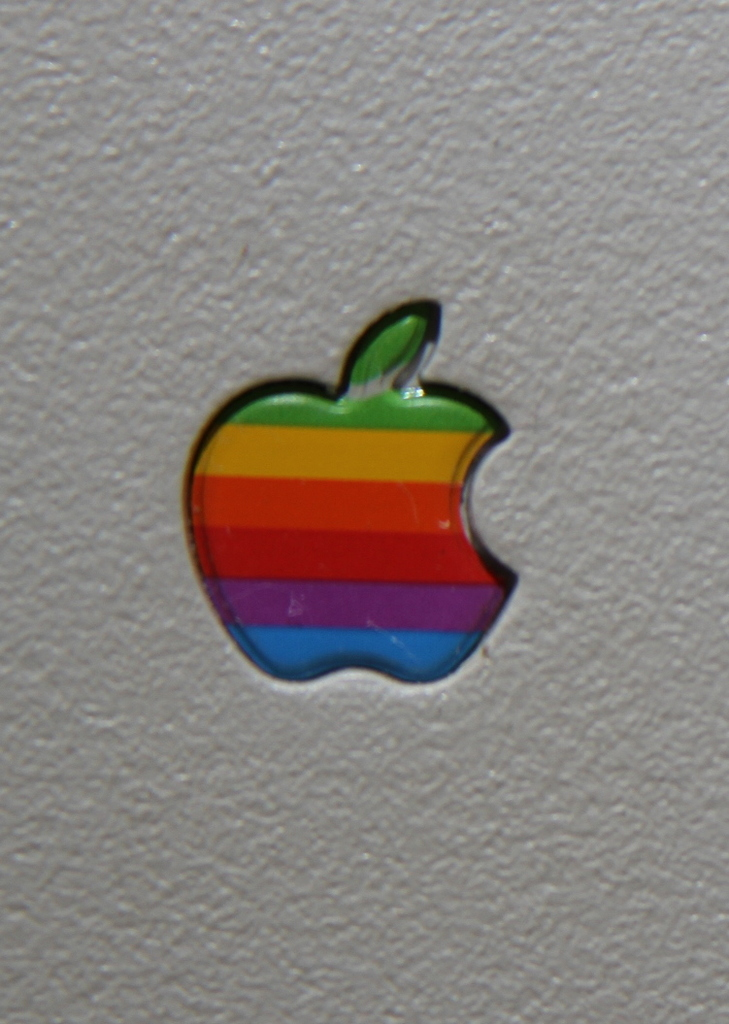Apple: (188, 296, 518, 681)
